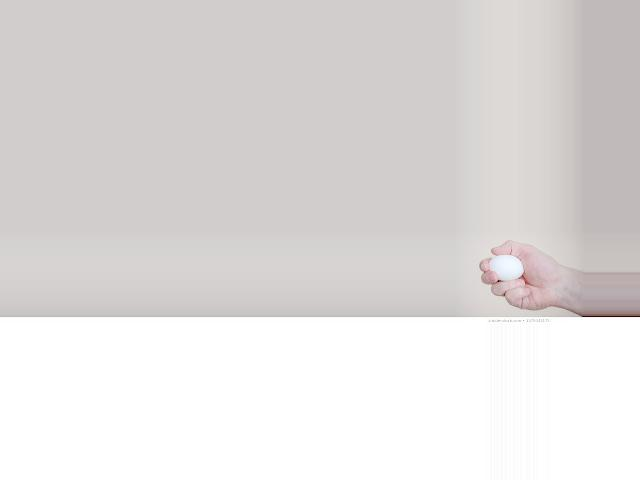egg: (489, 254, 524, 280)
